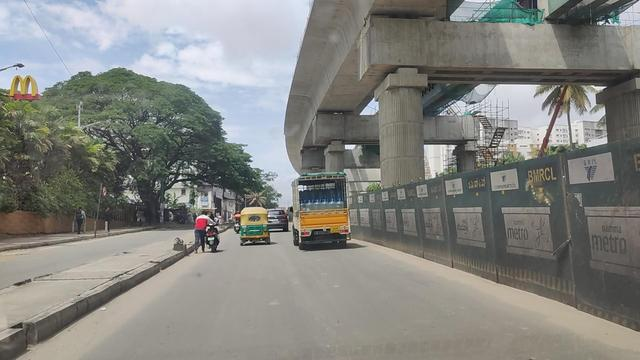HMV: (295, 170, 352, 252)
LMV: (238, 207, 270, 246)
